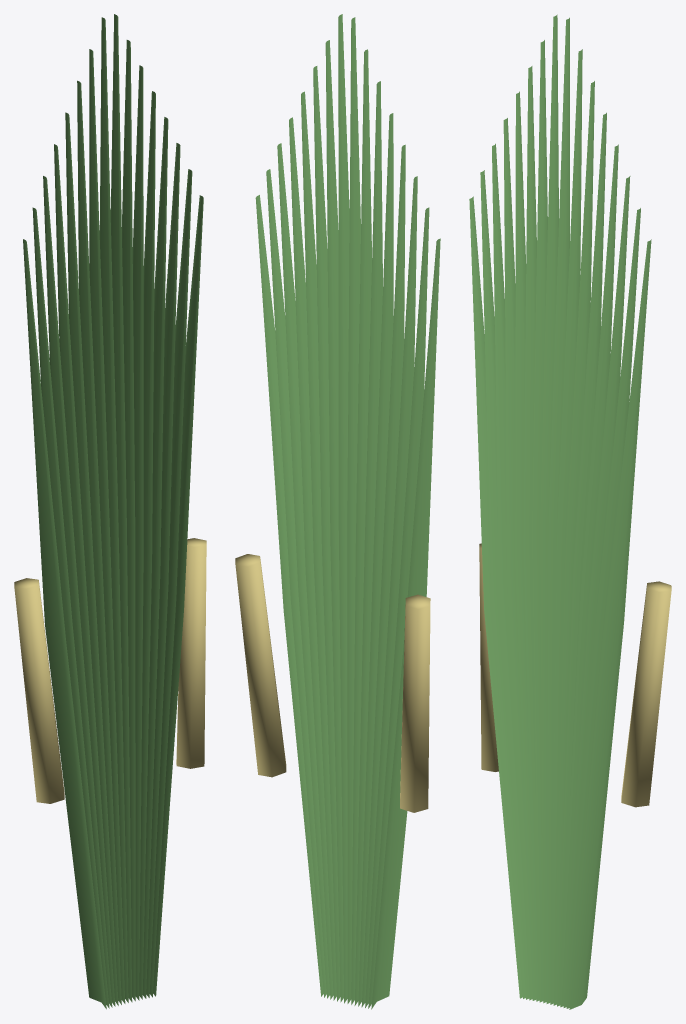
Rendered from flower_sweet_flag.glb.
3 renders of one model, left to right at view 1: azimuth 30°, elevation 25°; view 2: azimuth 150°, elevation 25°; view 3: azimuth 330°, elevation 25°, orthographic.
Parts seen in each view (by area): view 1: Flora_Sweet_Flag; view 2: Flora_Sweet_Flag; view 3: Flora_Sweet_Flag.
Boxes of the visible parts, box(x1,y1,x2,y2) form: Flora_Sweet_Flag: box(14, 14, 206, 1009); Flora_Sweet_Flag: box(235, 14, 440, 1009); Flora_Sweet_Flag: box(469, 14, 671, 1009).
Size of the model in its own units: 0.2199 by 1.07 by 0.0636.
